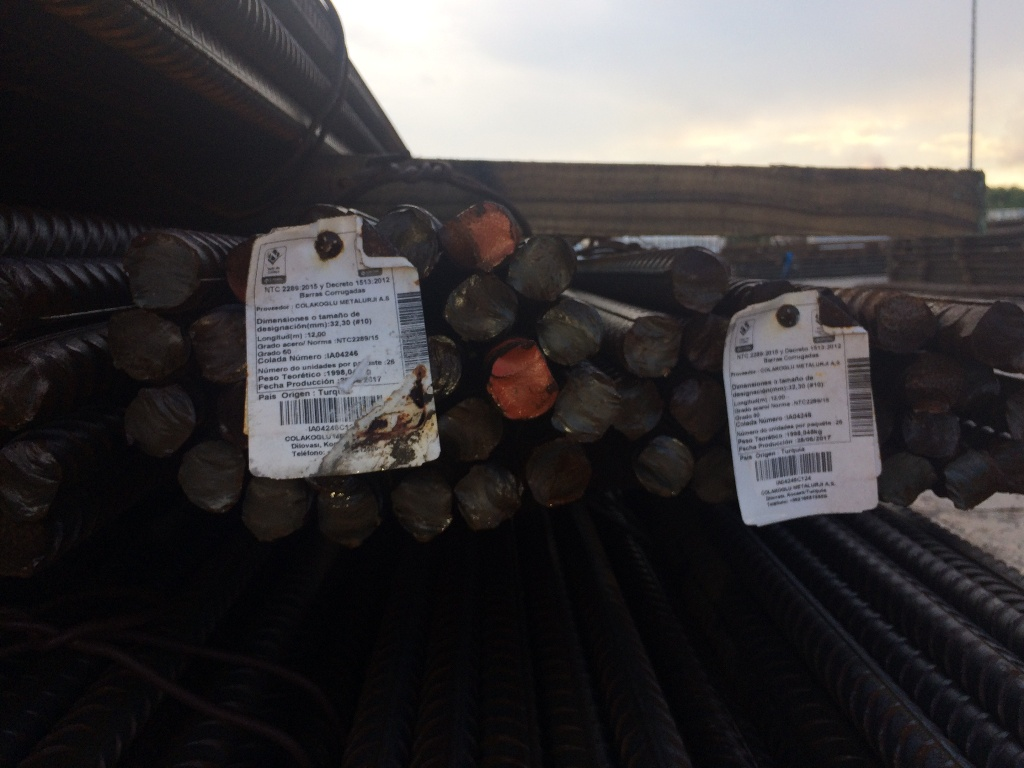dipstick: (438, 203, 512, 271), (109, 311, 184, 376), (127, 236, 196, 305), (445, 273, 514, 340), (1, 441, 60, 519), (124, 386, 192, 452), (318, 477, 378, 549), (493, 349, 555, 418), (454, 468, 520, 532), (179, 443, 242, 510), (554, 379, 616, 444), (376, 211, 437, 277), (511, 238, 574, 300), (537, 305, 601, 365), (244, 482, 305, 544), (622, 314, 680, 379), (395, 473, 452, 539), (192, 311, 246, 379), (442, 401, 501, 463), (528, 446, 590, 505), (1, 354, 47, 431), (672, 248, 723, 312), (669, 380, 725, 437), (945, 454, 1004, 508), (875, 297, 935, 349), (635, 438, 690, 494), (969, 306, 1022, 362), (901, 408, 959, 457), (904, 356, 959, 407), (1, 526, 53, 579), (880, 457, 938, 503), (618, 382, 663, 441), (692, 447, 733, 502), (425, 334, 460, 397), (685, 314, 722, 372)
